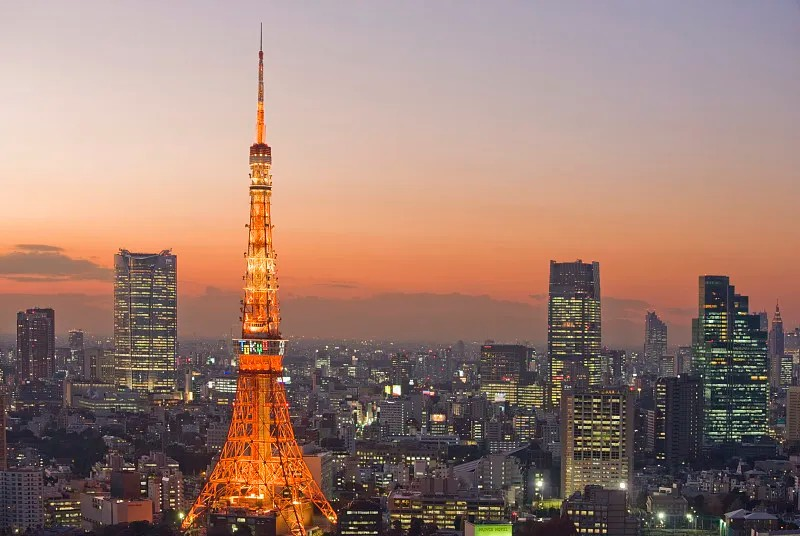Tokyo: (179, 18, 339, 534)
